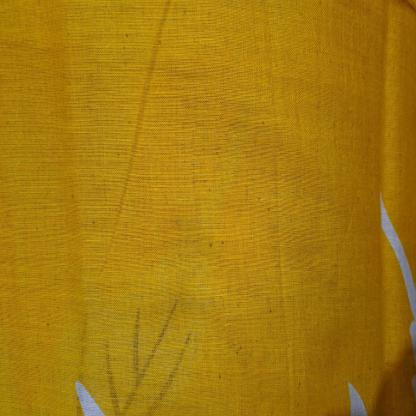spot: (204, 229, 231, 258), (232, 337, 246, 361), (86, 212, 99, 233), (215, 364, 226, 383), (43, 316, 55, 326)
